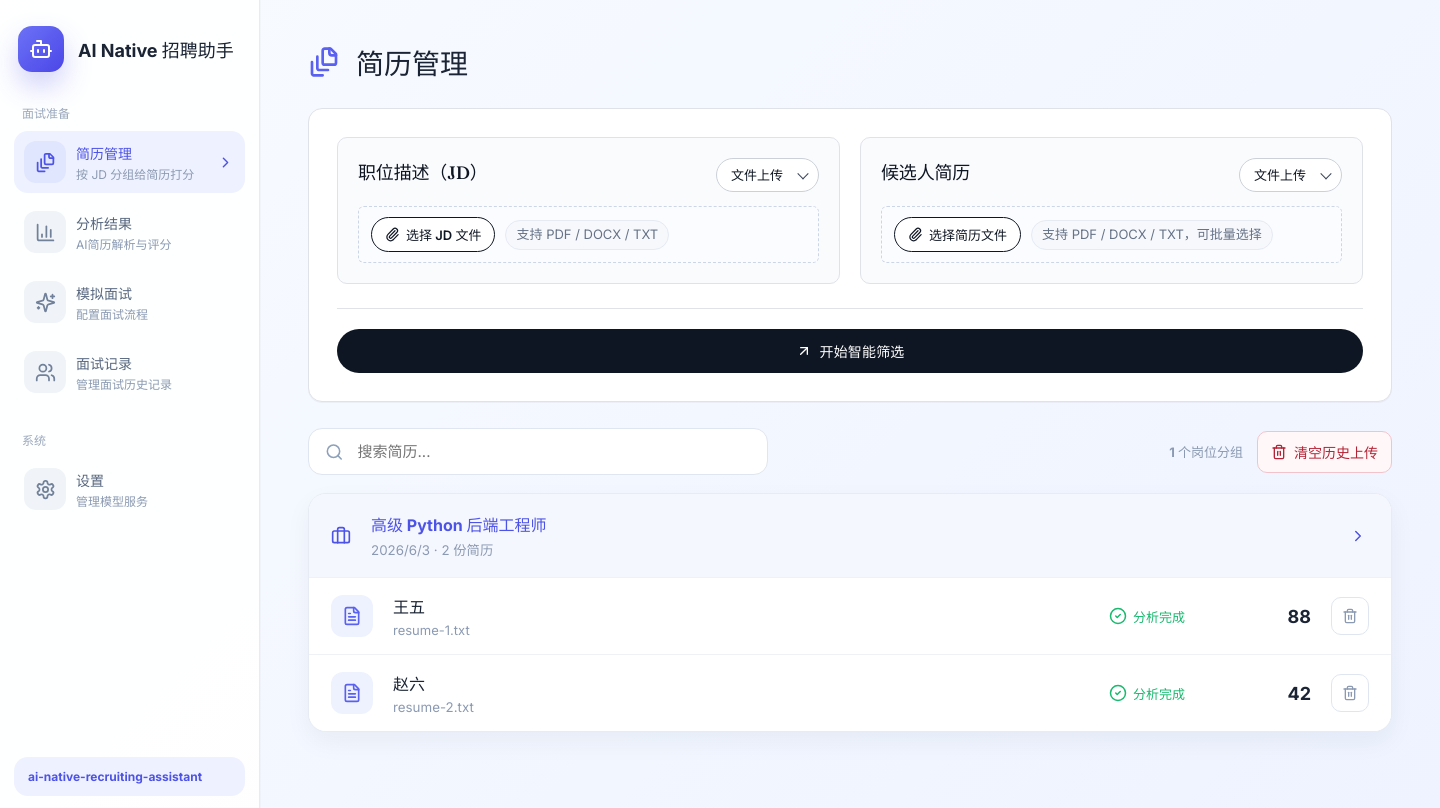
Test: App › removes an interview record locally when delete reports it is already gone
The width and height of the screenshot is (1440, 808).
Click the button "面试记录 管理面试历史记录" at [130, 372], box [14,341,245,403]
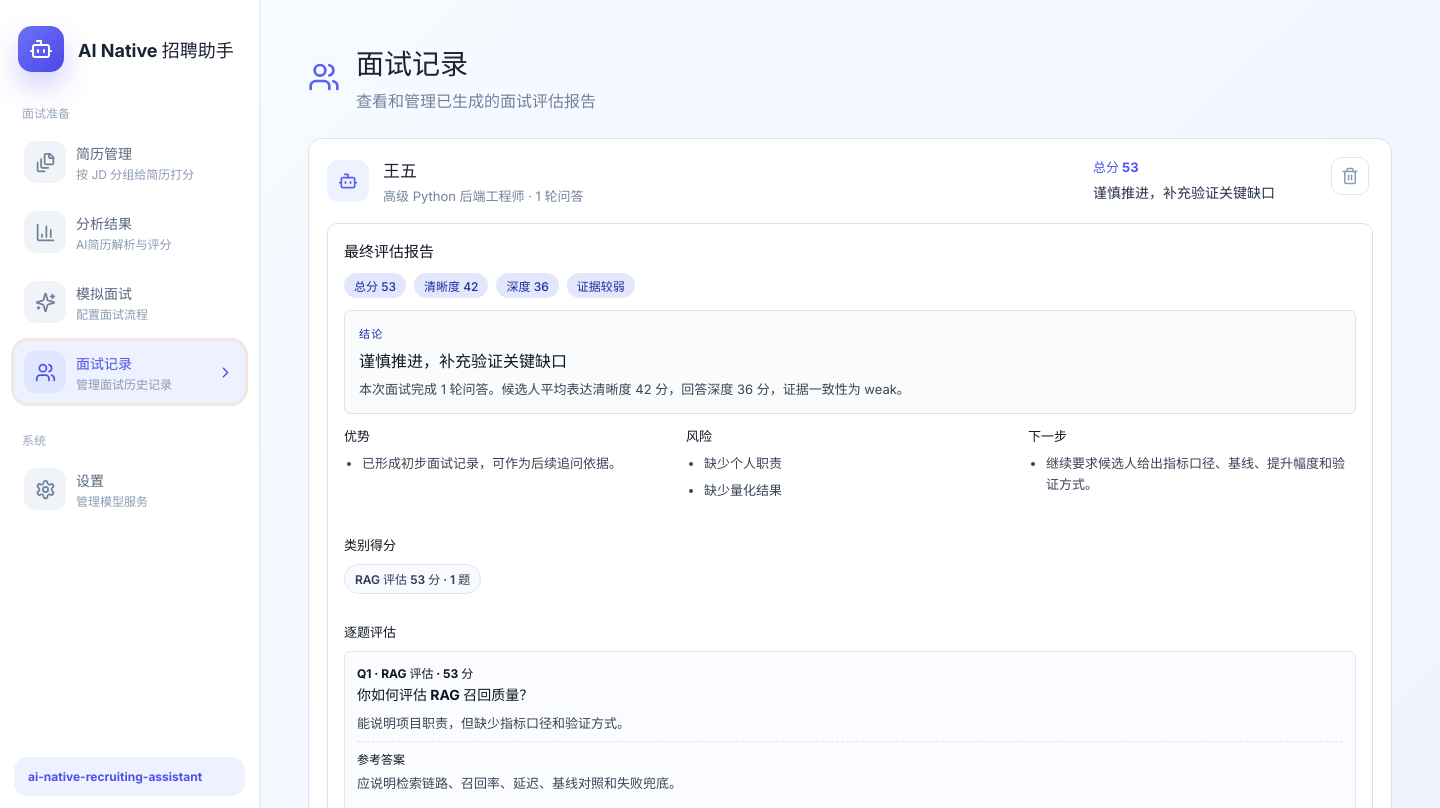
Now the text "谨慎推进，补充验证关键缺口" in the row of "高级 Python 后端工程师" is shown, box [1093,184,1275,201]
Click the button named "删除面试记录" at [1350, 176], box [1331,157,1369,195]
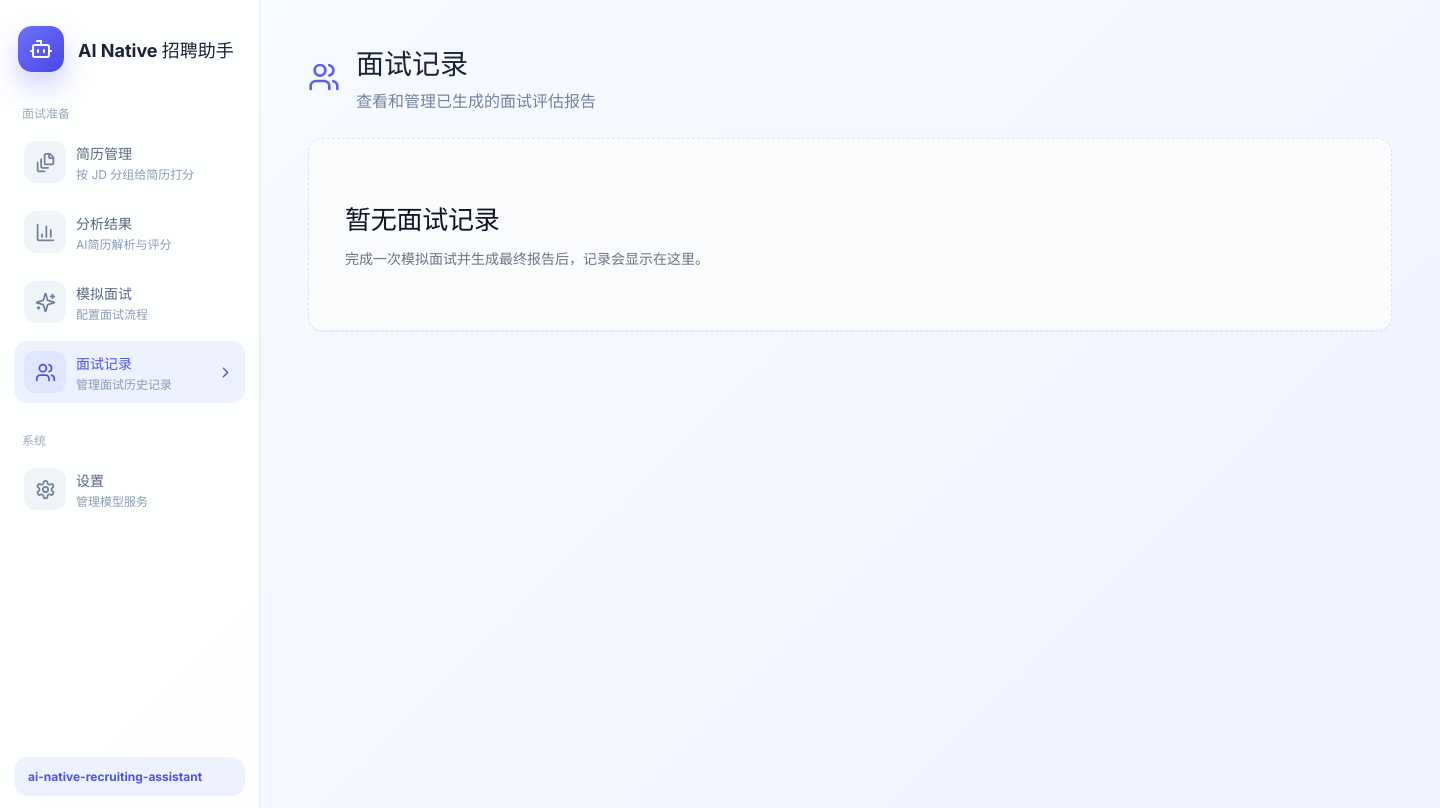
Now the text "谨慎推进，补充验证关键缺口" is not shown
Now the heading "暂无面试记录" is shown, box [345,199,500,236]
